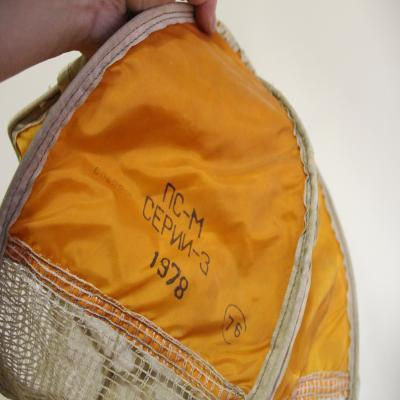other: (0, 13, 366, 400)
